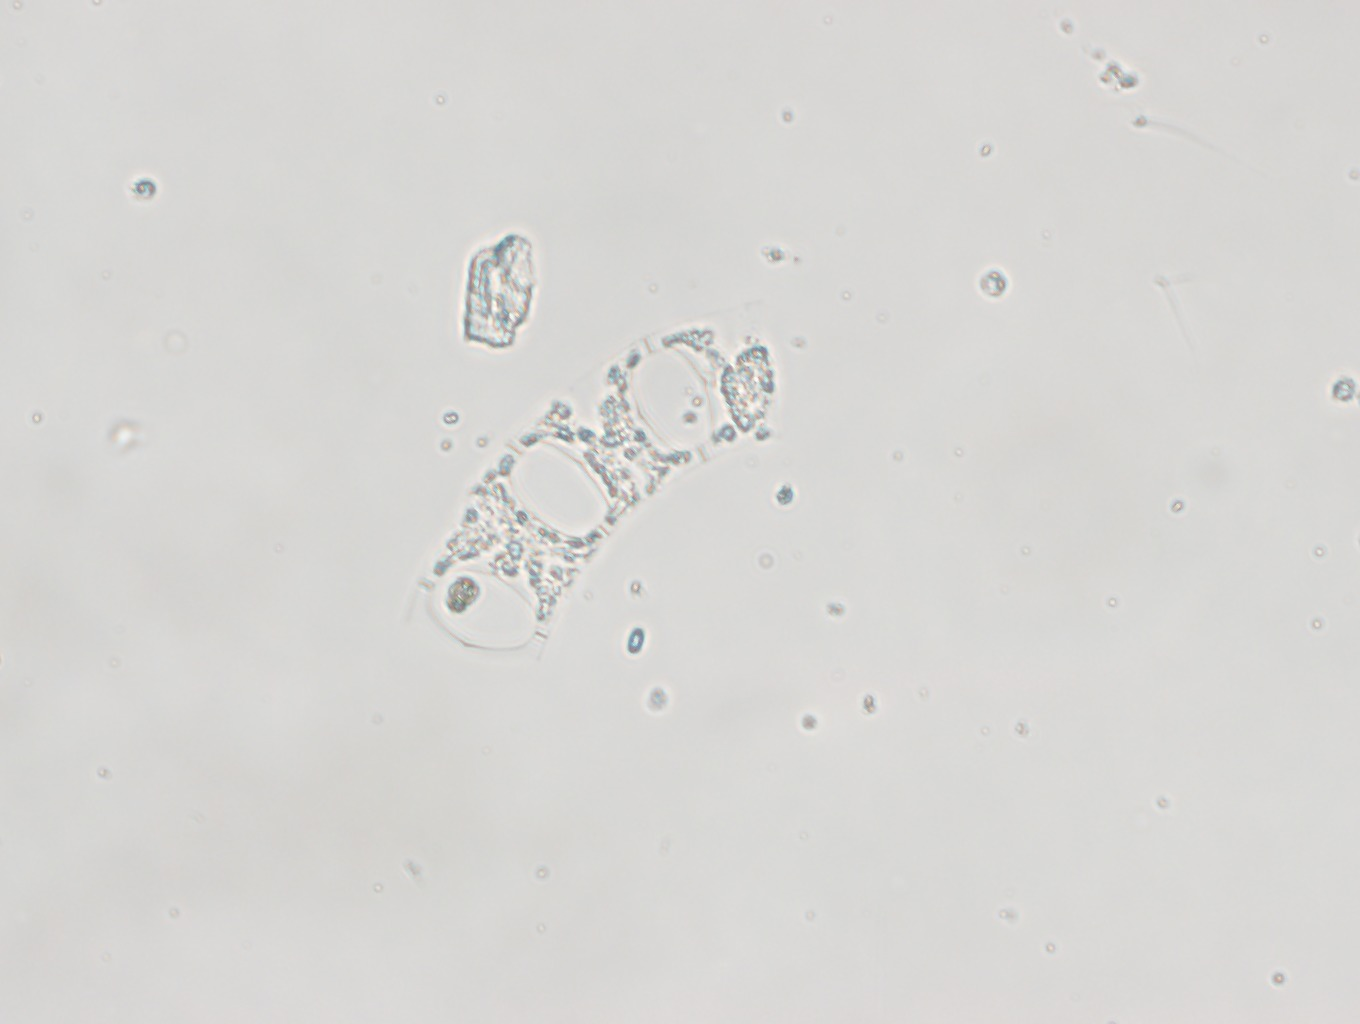eucampia: (398, 322, 791, 669)
